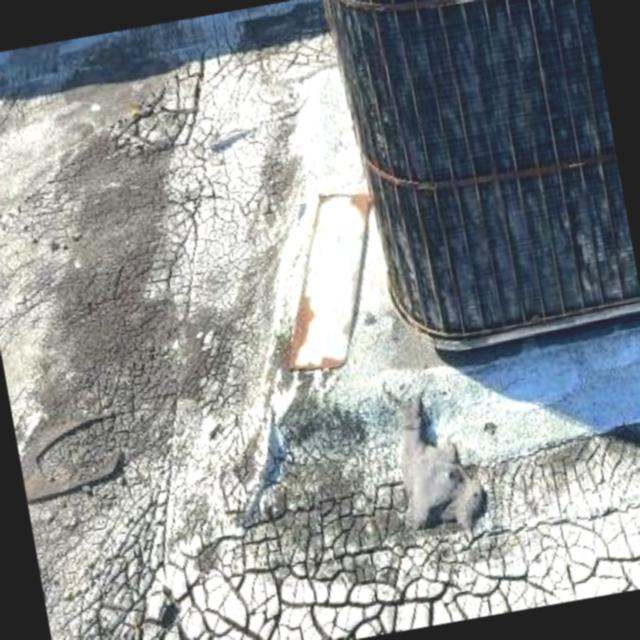SPLIT-SYSTEM: (288, 0, 640, 384)
